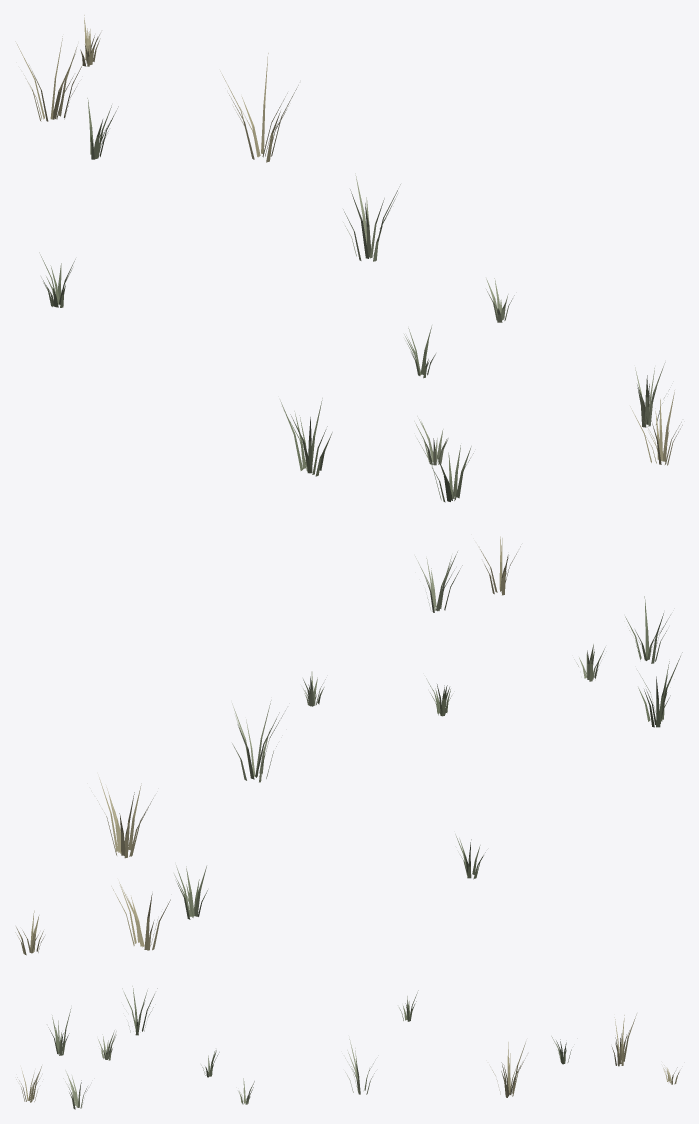
File: AE_Grass_-6_2.fbx
The picture shows the model from 3 angles, top to bottom: view 1: azimuth 30°, elevation 25°; view 2: azimuth 150°, elevation 25°; view 3: azimuth 270°, elevation 25°; orthographic projection. The views are drawn at different scales.
Visible parts, largest first — view 1: AE_Grass_-6_2_LOD0; view 2: AE_Grass_-6_2_LOD0; view 3: AE_Grass_-6_2_LOD0.
Boxes of the visible parts, x1,y1,x2,y2 form: AE_Grass_-6_2_LOD0: [15, 15, 682, 502]; AE_Grass_-6_2_LOD0: [15, 536, 682, 955]; AE_Grass_-6_2_LOD0: [16, 986, 679, 1109].
Size of what is drawn, in the model's own units: 412 by 124 by 1136.
